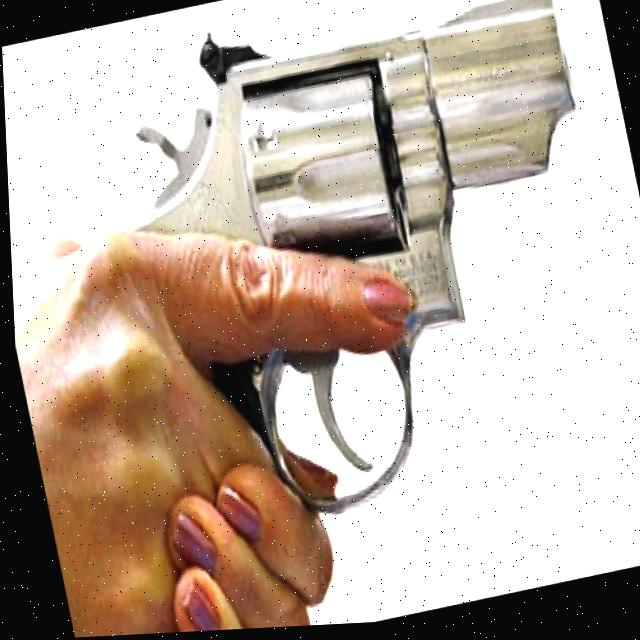pistol: (89, 0, 640, 549)
